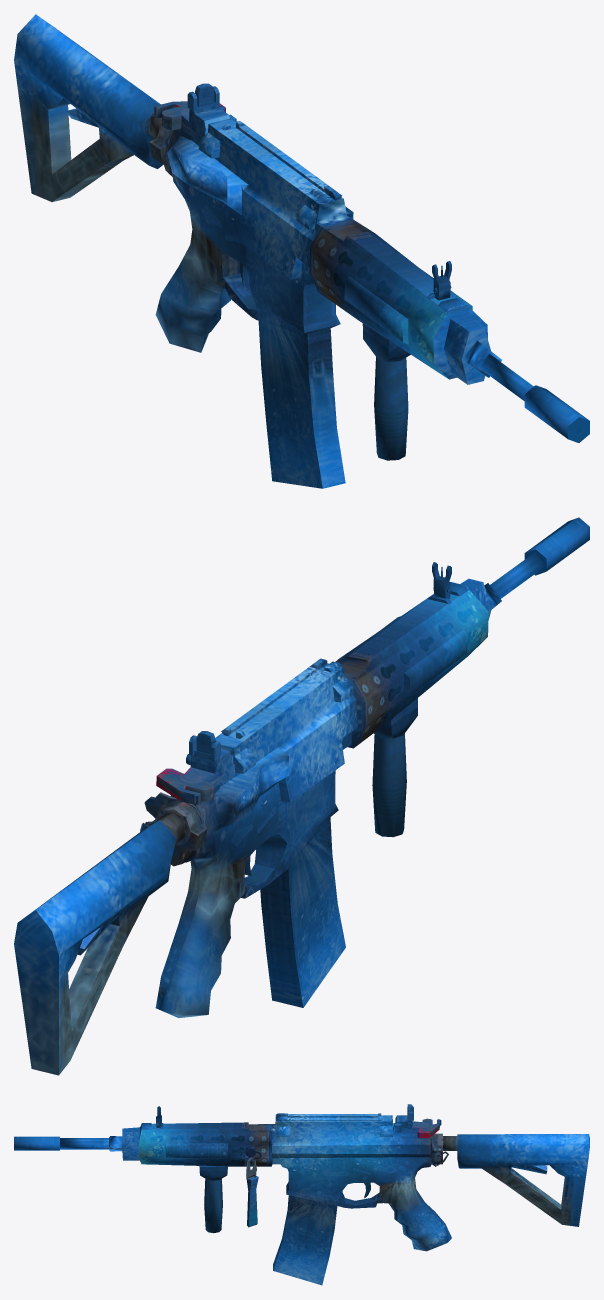
The model's file is Assault_Rifle_bq_qs_01_SpecialOps_Skin_Body_Main_(001030).glb.
3 views of the same model, one above another, from view 1: azimuth 30°, elevation 25°; view 2: azimuth 150°, elevation 25°; view 3: azimuth 270°, elevation 25° (orthographic). The views are drawn at different scales.
Visible parts, largest first — view 1: bq_qs_01; view 2: bq_qs_01; view 3: bq_qs_01.
Boxes of the visible parts, box(x1,y1,x2,y2) form: bq_qs_01: box(14, 14, 589, 488); bq_qs_01: box(14, 517, 589, 1075); bq_qs_01: box(14, 1104, 589, 1285).
Bounding box in the file's own units: 0.0817 × 0.3265 × 0.9691.
1 material, 1 textured.
